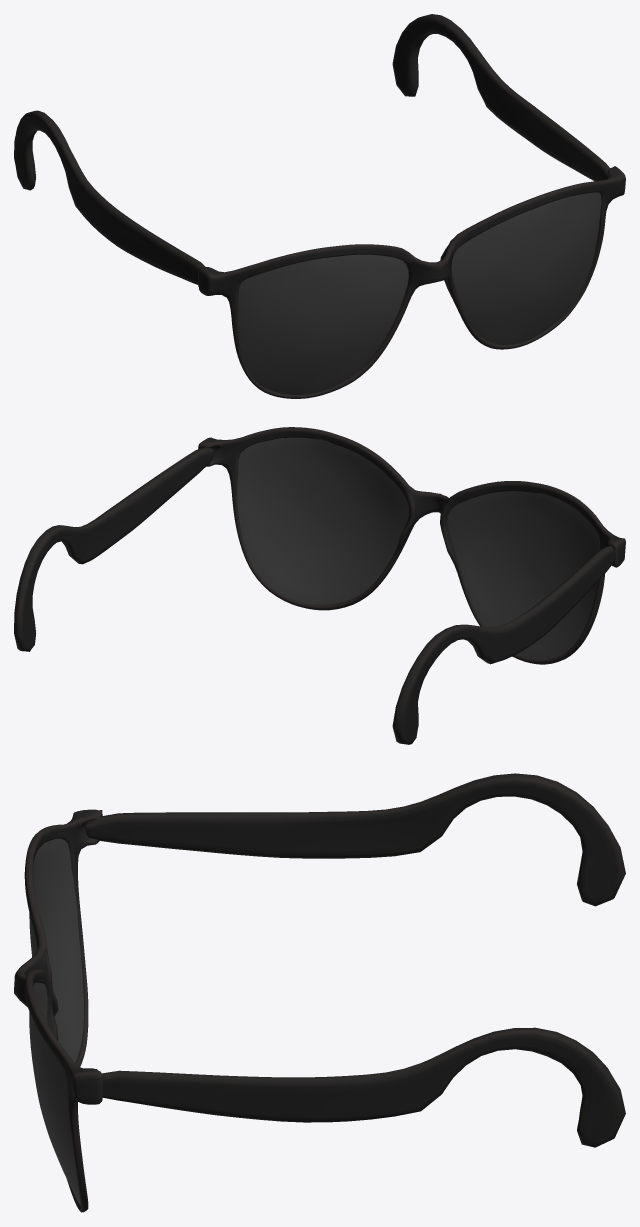
3 renders of one model, top to bottom at view 1: azimuth 30°, elevation 25°; view 2: azimuth 150°, elevation 25°; view 3: azimuth 270°, elevation 25°, orthographic. The views are drawn at different scales.
Bounding box in the file's own units: 1 × 0.4004 × 0.9575.
1 material, 1 textured.
